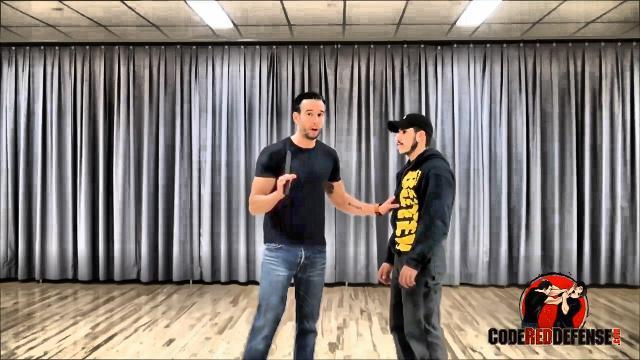knife: (277, 148, 297, 196)
